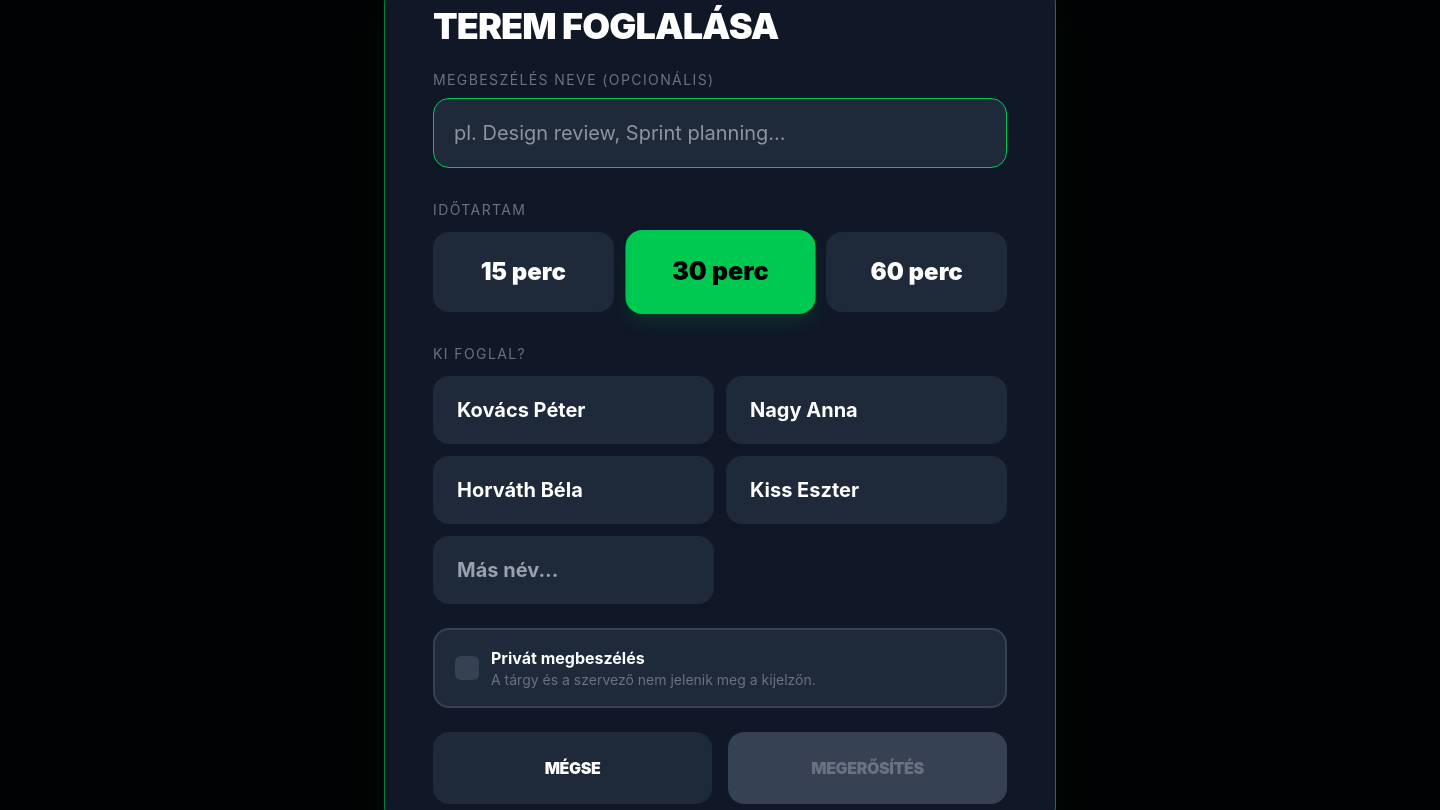
Test: BookingModal › confirm button becomes enabled after selecting a preset name
The width and height of the screenshot is (1440, 810).
What coordinates should you click on to do the following:
click the button "Kovács Péter"
I would click on:
 (574, 410)
Its box is [433, 376, 714, 444].
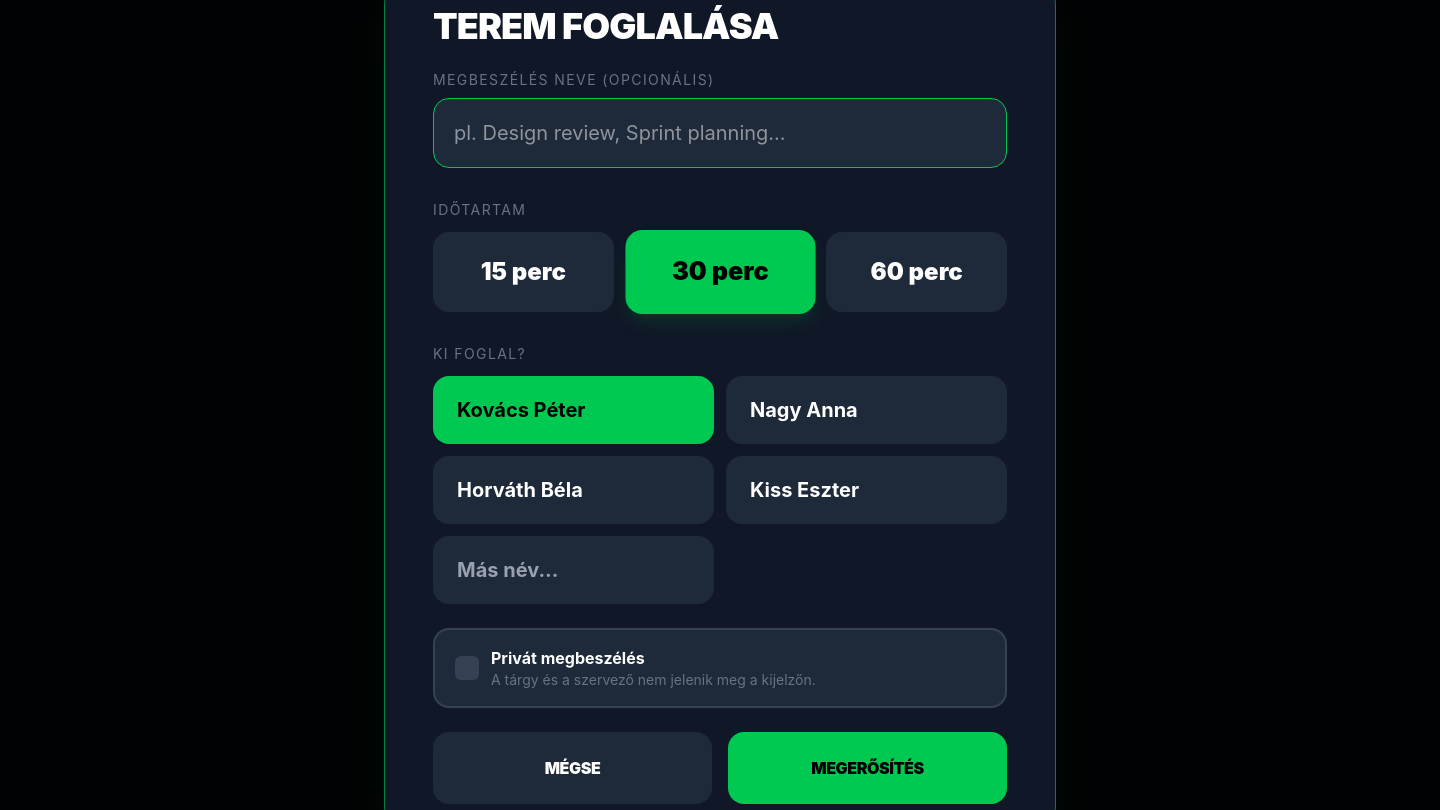
Result: the button "Megerősítés" is enabled at [728, 732, 1007, 804]
